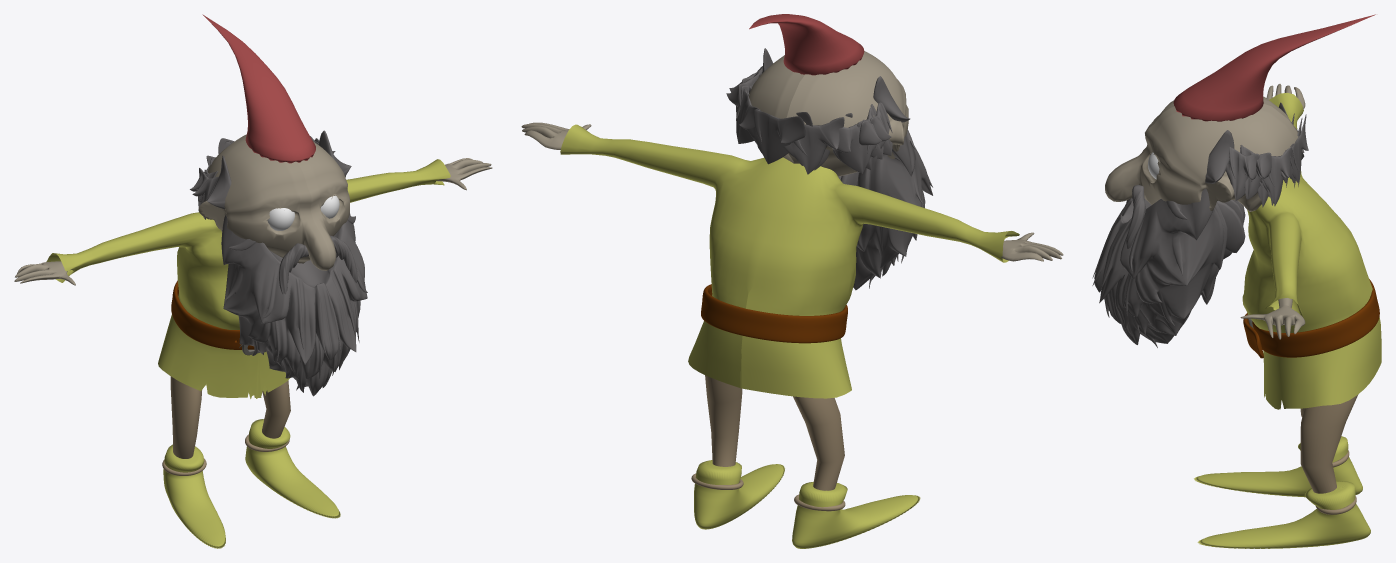
The model's file is dwarf_beta.fbx.
3 views of the same model, side by side, from view 1: azimuth 30°, elevation 25°; view 2: azimuth 150°, elevation 25°; view 3: azimuth 270°, elevation 25° (orthographic). The views are drawn at different scales.
Parts seen in each view (by area): view 1: polySurface81, polySurface73, polySurface71, polySurface56, polySurface79, polySurface77, polySurface54, polySurface63, polySurface75, polySurface50, polySurface64, polySurface53; view 2: polySurface73, polySurface81, polySurface71, polySurface77, polySurface50, polySurface56, polySurface79, polySurface63, polySurface64, polySurface54, polySurface75, polySurface67 (+3 smaller); view 3: polySurface73, polySurface81, polySurface54, polySurface56, polySurface79, polySurface50, polySurface64, polySurface77, polySurface75, polySurface82, polySurface66, polySurface65 (+3 smaller).
Boxes of the visible parts, <box> form: polySurface81: <box>207,130,367,396</box>; polySurface73: <box>46,159,450,398</box>; polySurface71: <box>198,134,329,270</box>; polySurface56: <box>202,14,315,163</box>; polySurface79: <box>245,419,340,518</box>; polySurface77: <box>163,444,225,548</box>; polySurface54: <box>297,141,349,269</box>; polySurface63: <box>170,376,201,458</box>; polySurface75: <box>14,158,492,285</box>; polySurface50: <box>171,280,254,349</box>; polySurface64: <box>262,380,290,438</box>; polySurface53: <box>279,243,308,294</box>; polySurface73: <box>560,124,1019,398</box>; polySurface81: <box>762,48,932,290</box>; polySurface71: <box>786,51,908,176</box>; polySurface77: <box>792,481,920,548</box>; polySurface50: <box>701,284,847,343</box>; polySurface56: <box>749,14,864,75</box>; polySurface79: <box>694,460,784,529</box>; polySurface63: <box>793,396,844,490</box>; polySurface64: <box>705,375,742,466</box>; polySurface54: <box>749,55,804,163</box>; polySurface75: <box>521,122,1063,261</box>; polySurface67: <box>747,109,805,164</box>; polySurface73: <box>1242,92,1381,409</box>; polySurface81: <box>1092,130,1245,347</box>; polySurface54: <box>1105,104,1298,211</box>; polySurface56: <box>1173,14,1375,121</box>; polySurface79: <box>1197,481,1370,548</box>; polySurface50: <box>1243,279,1379,358</box>; polySurface64: <box>1300,394,1358,493</box>; polySurface77: <box>1194,436,1362,497</box>; polySurface75: <box>1240,84,1305,339</box>; polySurface82: <box>1225,147,1259,200</box>; polySurface66: <box>1263,146,1292,206</box>; polySurface65: <box>1240,145,1271,199</box>.
Size of the model in its own units: 19.23 by 17.62 by 9.23.
